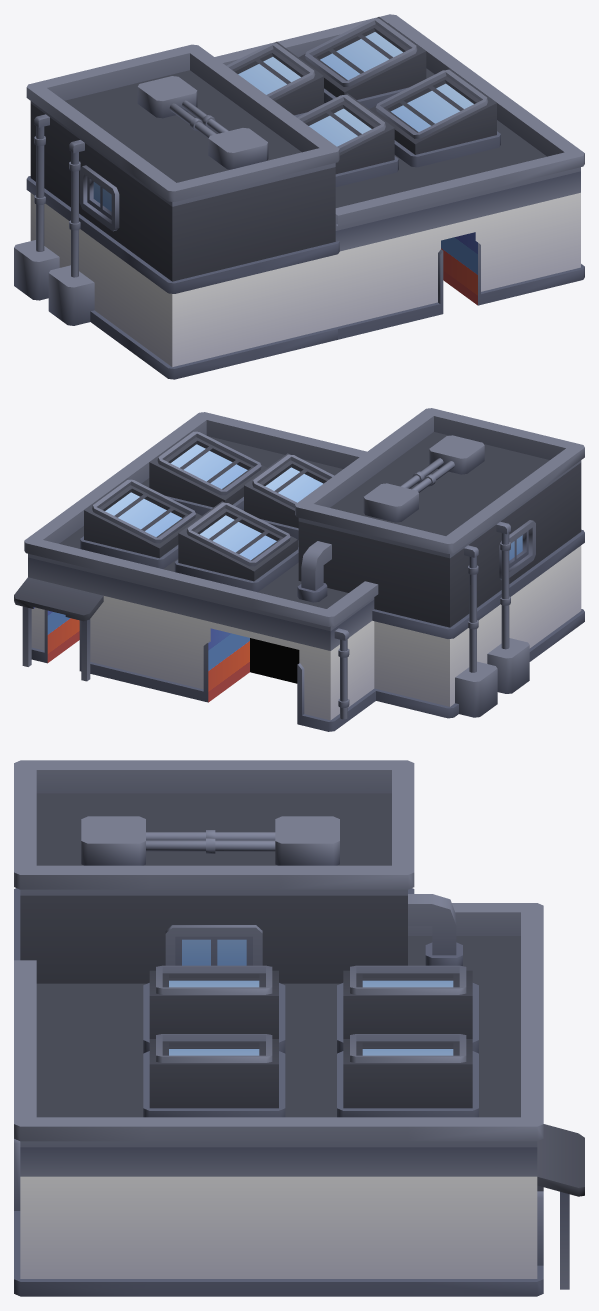
File: building-q-enterable.glb
The picture shows the model from 3 angles, top to bottom: view 1: azimuth 30°, elevation 25°; view 2: azimuth 150°, elevation 25°; view 3: azimuth 270°, elevation 25°; orthographic projection. The views are drawn at different scales.
Visible parts, largest first — view 1: building-q-enterable; view 2: building-q-enterable; view 3: building-q-enterable.
Part boxes in pixels (left/top/right/bottom): building-q-enterable: left=14, top=14, right=584, bottom=379; building-q-enterable: left=14, top=408, right=584, bottom=731; building-q-enterable: left=14, top=760, right=584, bottom=1296.
Size of the model in its own units: 2.14 by 0.88 by 1.77.
Materials: 1 (1 with a texture image).
